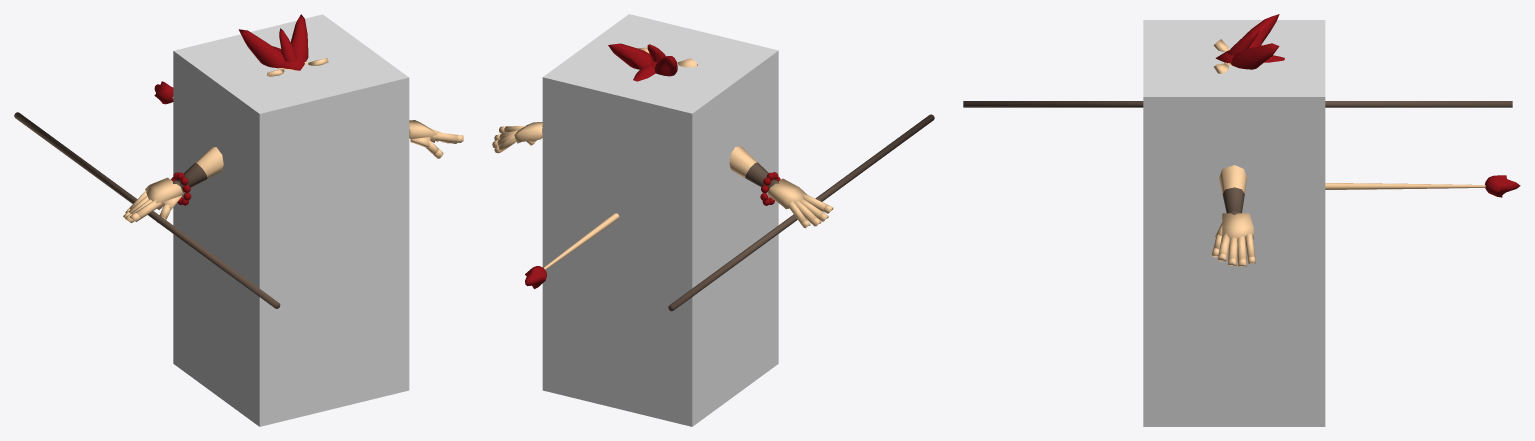
File: Blocking_Midena_09.fbx
The picture shows the model from 3 angles, left to right: view 1: azimuth 30°, elevation 25°; view 2: azimuth 150°, elevation 25°; view 3: azimuth 270°, elevation 25°; orthographic projection. The views are drawn at different scales.
Parts seen in each view (by area): view 1: Ref_Sife, Sphere.001; view 2: Ref_Sife, Sphere.001; view 3: Ref_Sife, Sphere.001.
Part boxes in pixels (x1,y1,x2,y2): Ref_Sife: (173, 14, 409, 426); Sphere.001: (14, 14, 463, 308); Ref_Sife: (542, 14, 778, 426); Sphere.001: (492, 43, 934, 311); Ref_Sife: (1143, 20, 1325, 426); Sphere.001: (963, 14, 1520, 266).
Bounding box in the file's own units: 444 × 437 × 612.
